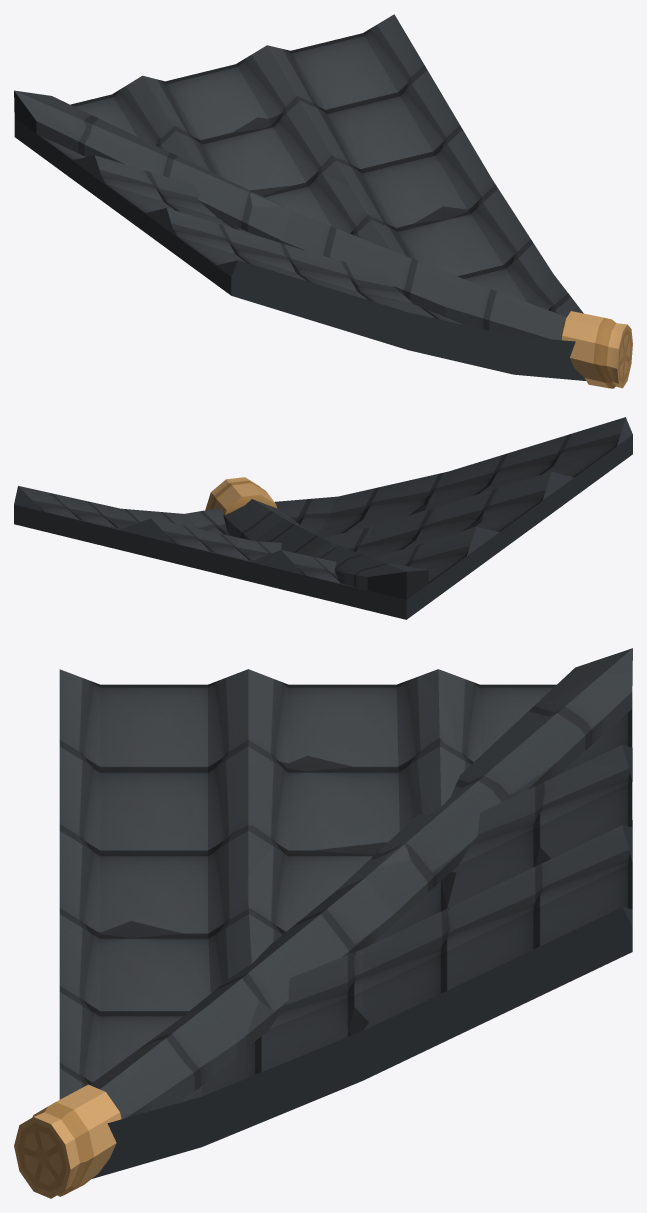
File: SM_Bld_Roof_Edge_Corner_02.fbx
3 views of the same model, one above another, from view 1: azimuth 30°, elevation 25°; view 2: azimuth 150°, elevation 25°; view 3: azimuth 270°, elevation 25° (orthographic). The views are drawn at different scales.
Parts seen in each view (by area): view 1: SM_Bld_Roof_Edge_Corner_02; view 2: SM_Bld_Roof_Edge_Corner_02; view 3: SM_Bld_Roof_Edge_Corner_02.
Boxes of the visible parts, x1,y1,x2,y2 form: SM_Bld_Roof_Edge_Corner_02: (14, 14, 632, 388); SM_Bld_Roof_Edge_Corner_02: (14, 417, 632, 619); SM_Bld_Roof_Edge_Corner_02: (14, 648, 632, 1198).
Bounding box in the file's own units: 270 × 144 × 270.
